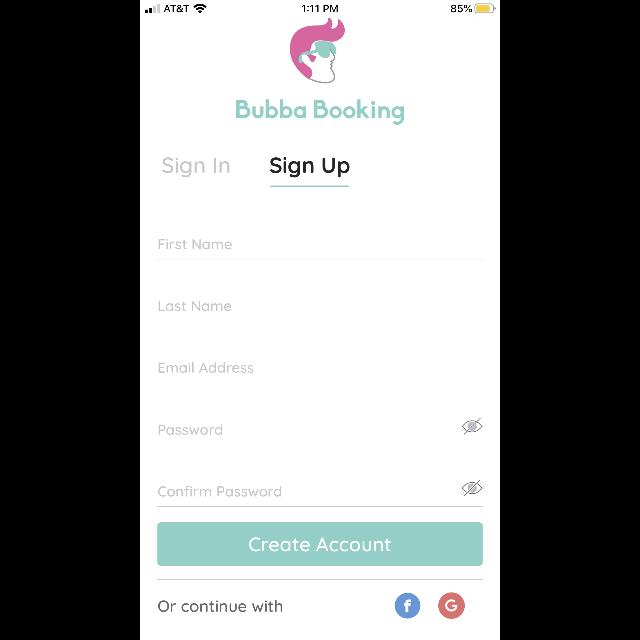icon: (438, 593, 464, 619), (396, 594, 420, 618), (462, 480, 482, 496), (462, 418, 482, 434)
image: (290, 18, 346, 84)
input: (158, 418, 482, 446), (158, 480, 482, 506), (158, 362, 482, 383), (158, 301, 482, 321), (158, 239, 482, 259)
text: (236, 99, 404, 125), (270, 158, 350, 178), (158, 600, 282, 612), (162, 158, 230, 178), (158, 486, 282, 496), (158, 362, 254, 373), (158, 238, 232, 250), (158, 424, 222, 436), (159, 301, 231, 311)
textbutton: (158, 522, 482, 566)
uppertaskbar: (140, 0, 500, 14)
